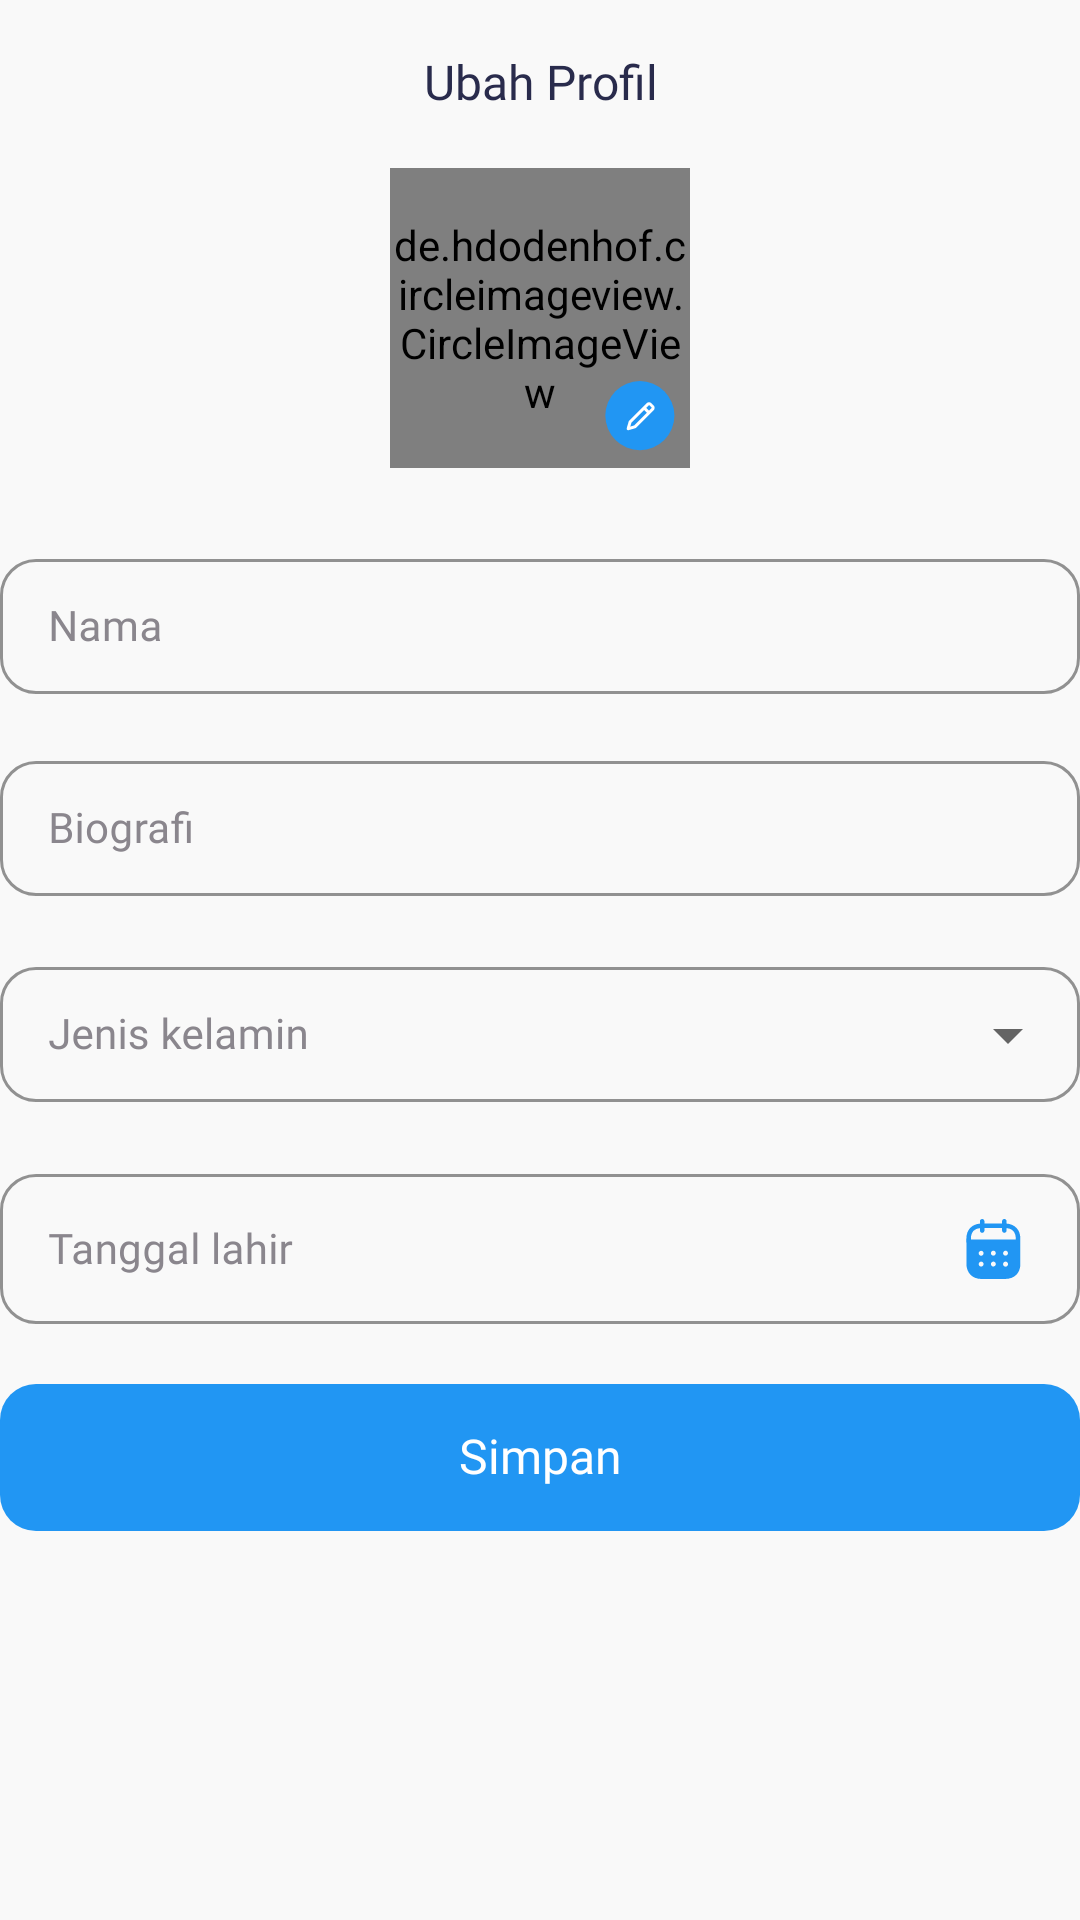

Named icons in this screenshot (1080×1920) and their centers, (x=x, y=y):
edit pencil: (x=640, y=416)
